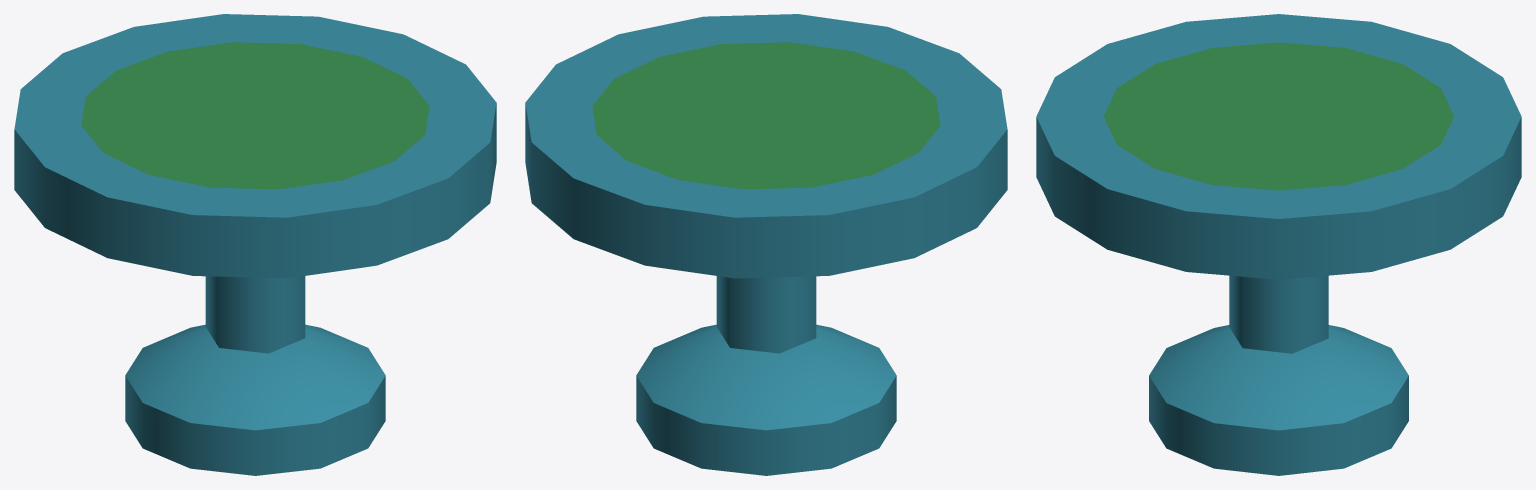
Rendered from table_06.fbx.
3 views of the same model, side by side, from view 1: azimuth 30°, elevation 25°; view 2: azimuth 150°, elevation 25°; view 3: azimuth 270°, elevation 25° (orthographic).
Visible parts, largest first — view 1: table_06; view 2: table_06; view 3: table_06.
Boxes of the visible parts, bbox=[...] form: table_06: bbox=[14, 14, 496, 475]; table_06: bbox=[525, 14, 1007, 475]; table_06: bbox=[1036, 14, 1521, 475].
Bounding box in the file's own units: 87.15 × 60.34 × 87.15.
